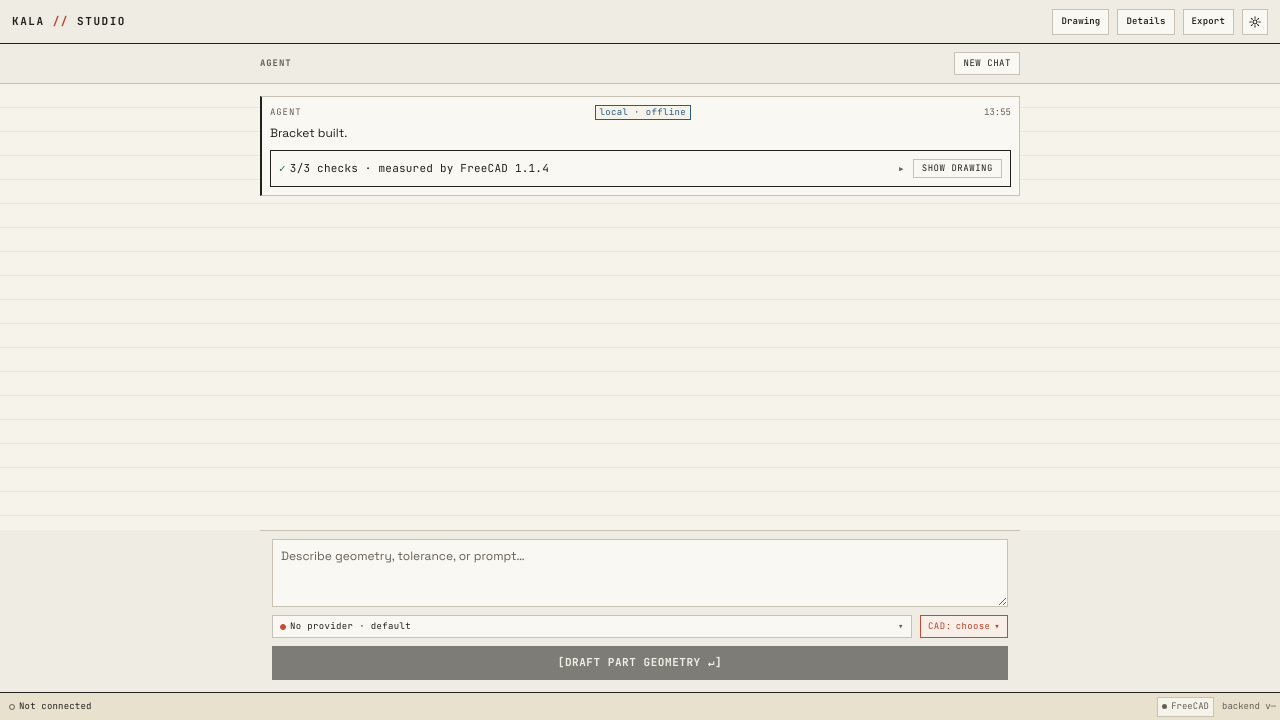
Test case: app frame › activates a design and opens the drawing from the card summary
The width and height of the screenshot is (1280, 720).
Click the button with class "chat-panel-design-show" at (957, 169), box [913,159,1002,178]
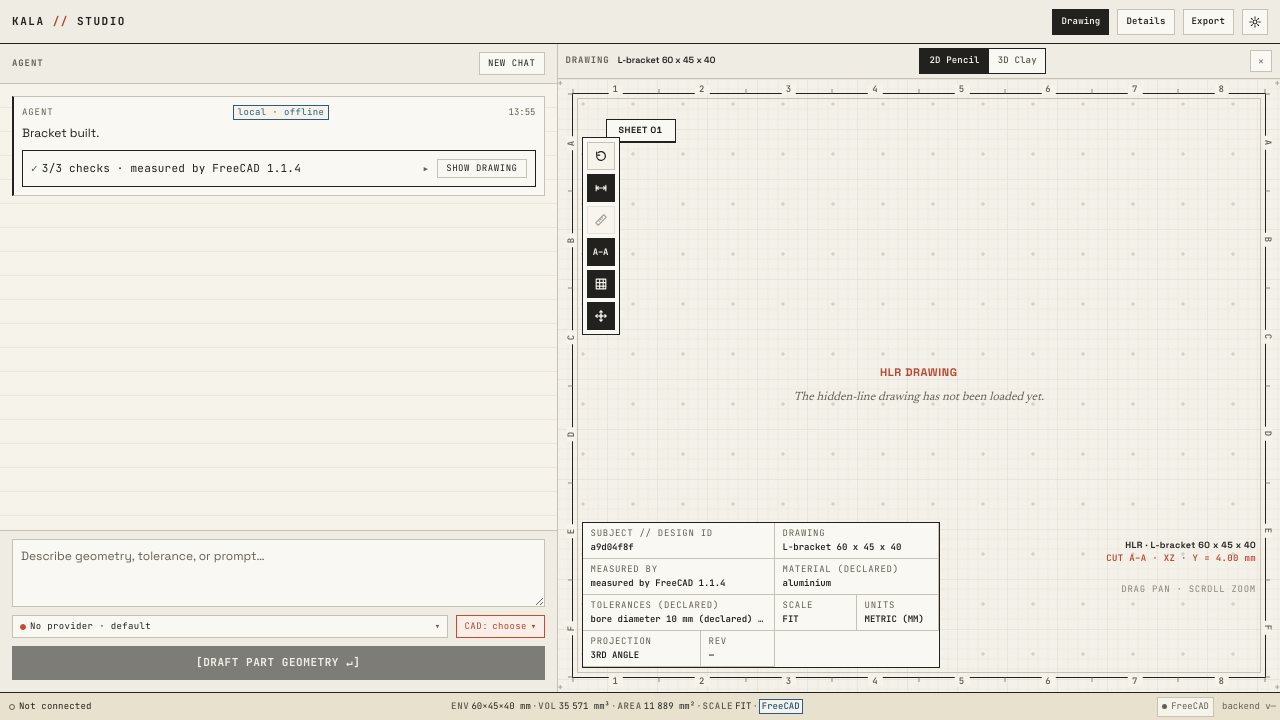
Now the element with class "studio-drawing-column" is shown, box [556,44,1279,692]
